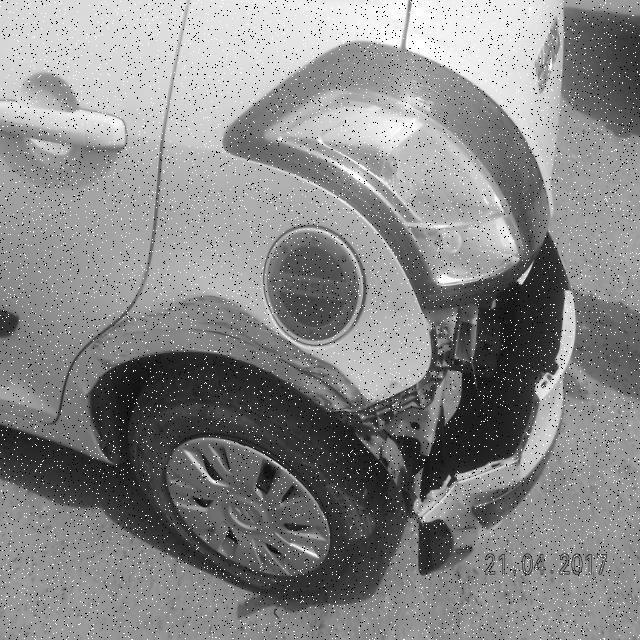quaterpanel-dent: (124, 181, 357, 606)
rear-bumper-dent: (365, 254, 623, 564)
